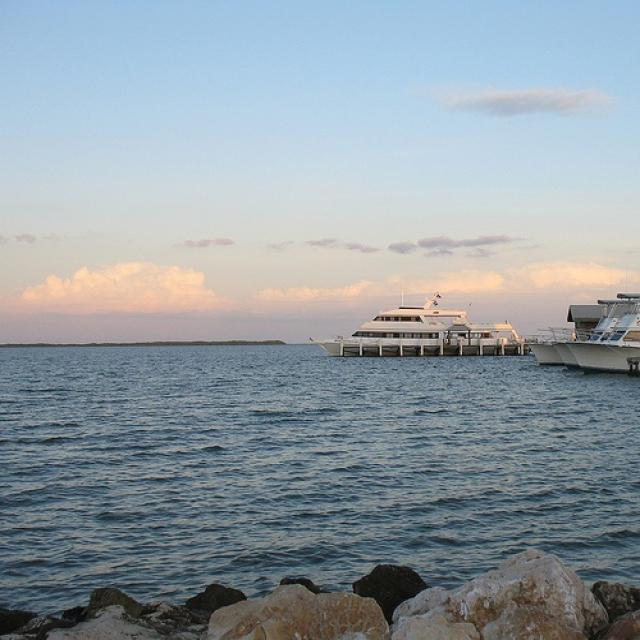boat: (310, 290, 524, 362), (550, 297, 624, 366), (566, 312, 638, 374), (523, 316, 585, 368)
